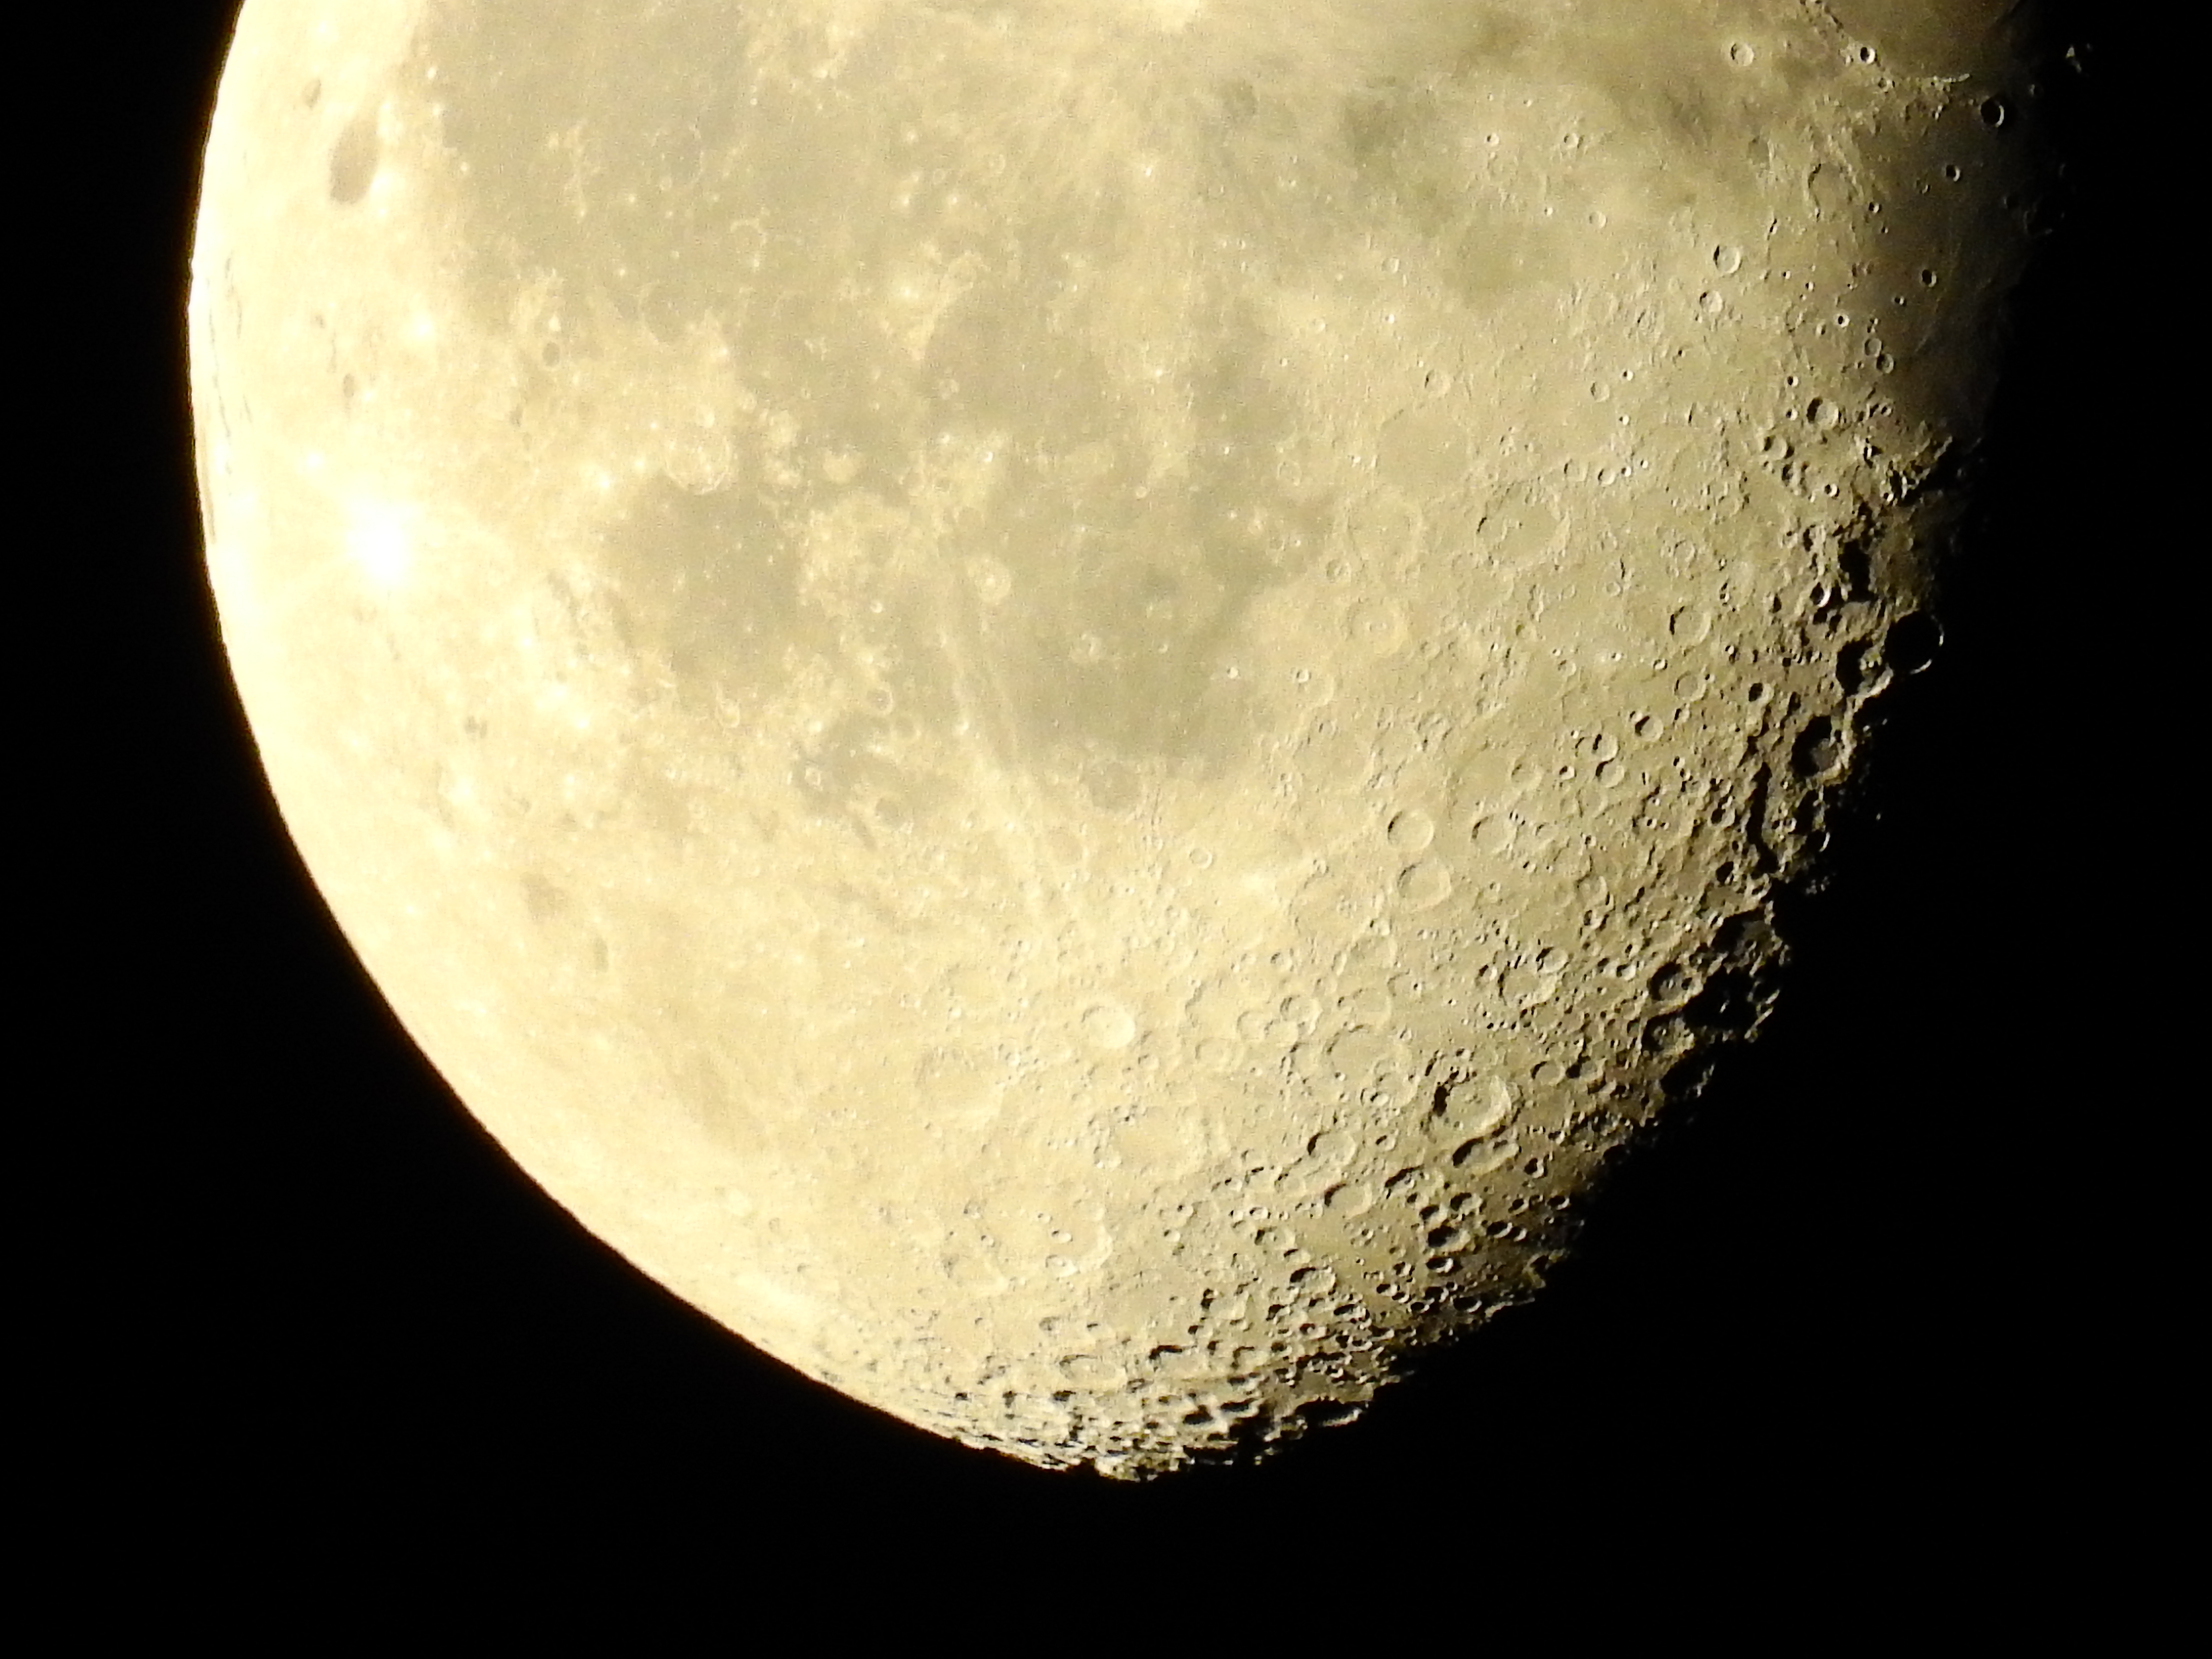crater: (899, 1037, 1021, 1159), (610, 87, 740, 197), (1773, 124, 1878, 237), (648, 408, 751, 512), (1313, 577, 1421, 674), (1421, 1044, 1524, 1141), (1068, 728, 1165, 828), (1775, 706, 1872, 795), (1055, 978, 1155, 1058), (1629, 948, 1728, 1025), (1366, 777, 1453, 852), (951, 544, 1035, 619), (1458, 809, 1534, 880), (968, 134, 1047, 197), (860, 775, 928, 842), (1655, 592, 1733, 648), (848, 579, 918, 640), (1655, 657, 1733, 711), (850, 669, 920, 728), (726, 579, 786, 648), (1707, 30, 1773, 89), (1303, 1124, 1367, 1178), (1534, 110, 1601, 162), (1691, 225, 1754, 275), (524, 324, 577, 380), (1465, 108, 1524, 157), (1364, 242, 1421, 291), (1576, 178, 1618, 244), (1526, 1047, 1573, 1105), (1209, 653, 1256, 702), (1205, 488, 1249, 540), (1576, 362, 1622, 411), (1407, 361, 1460, 401), (1179, 836, 1224, 875)
